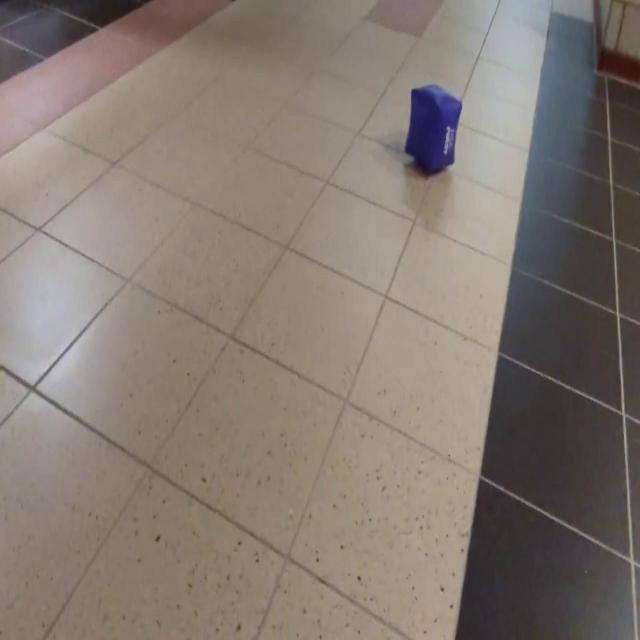frc_cube: (404, 84, 462, 174)
